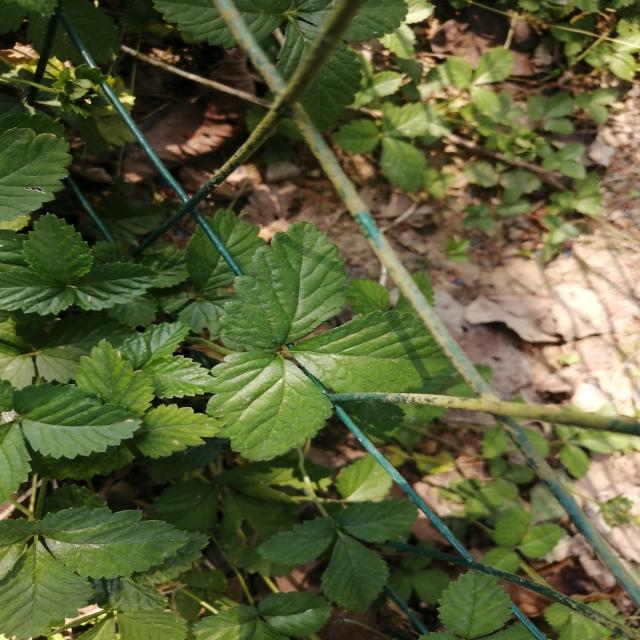Mock_strawberry: (220, 224, 480, 462), (0, 308, 242, 506)
